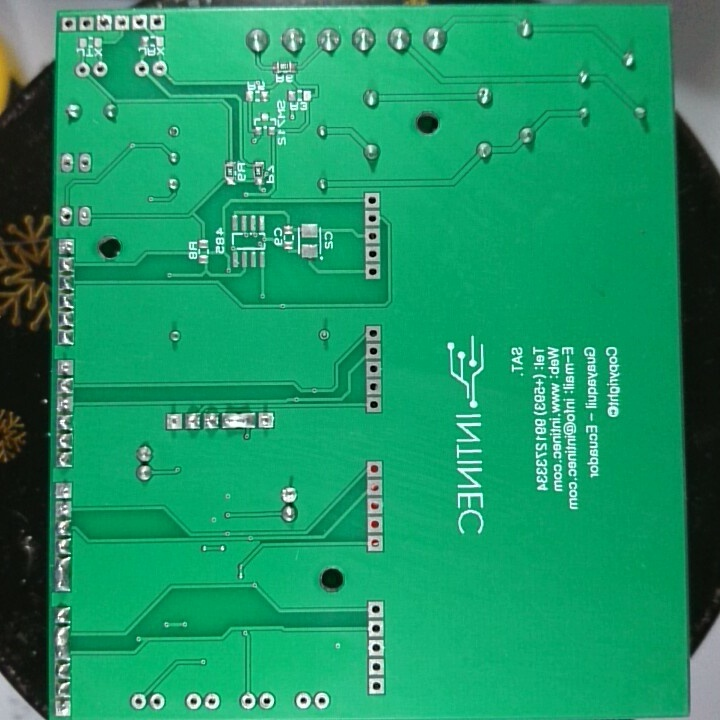F: (364, 530, 390, 555), (148, 58, 172, 82), (54, 391, 78, 414), (56, 358, 80, 378), (361, 226, 384, 246), (164, 411, 184, 434), (256, 410, 278, 430), (52, 482, 76, 500), (58, 151, 76, 175), (51, 500, 76, 517), (362, 189, 383, 209), (365, 513, 386, 533), (366, 675, 385, 697), (91, 60, 110, 81), (150, 690, 168, 712), (57, 238, 79, 256), (315, 326, 333, 348), (94, 11, 112, 33), (76, 202, 93, 225), (78, 152, 94, 176), (365, 358, 384, 378), (366, 458, 385, 478), (367, 657, 387, 676), (364, 260, 382, 281), (203, 691, 221, 712), (59, 13, 77, 34), (184, 691, 201, 713), (279, 485, 301, 502), (361, 211, 384, 227), (365, 377, 384, 396), (365, 395, 384, 414), (365, 478, 384, 497), (129, 691, 148, 710), (364, 243, 382, 263), (364, 323, 382, 343), (365, 340, 383, 360), (369, 618, 387, 638), (294, 692, 312, 712), (55, 697, 75, 715), (73, 60, 91, 80), (259, 689, 275, 711), (239, 689, 255, 711), (59, 204, 75, 226), (367, 600, 386, 618), (367, 638, 386, 656), (313, 691, 331, 710), (149, 13, 167, 32), (366, 497, 384, 515), (114, 15, 131, 34), (78, 14, 95, 33), (134, 60, 150, 80), (131, 12, 147, 32), (165, 123, 180, 142)
P: (220, 409, 256, 431), (53, 625, 74, 662), (53, 555, 72, 595)
